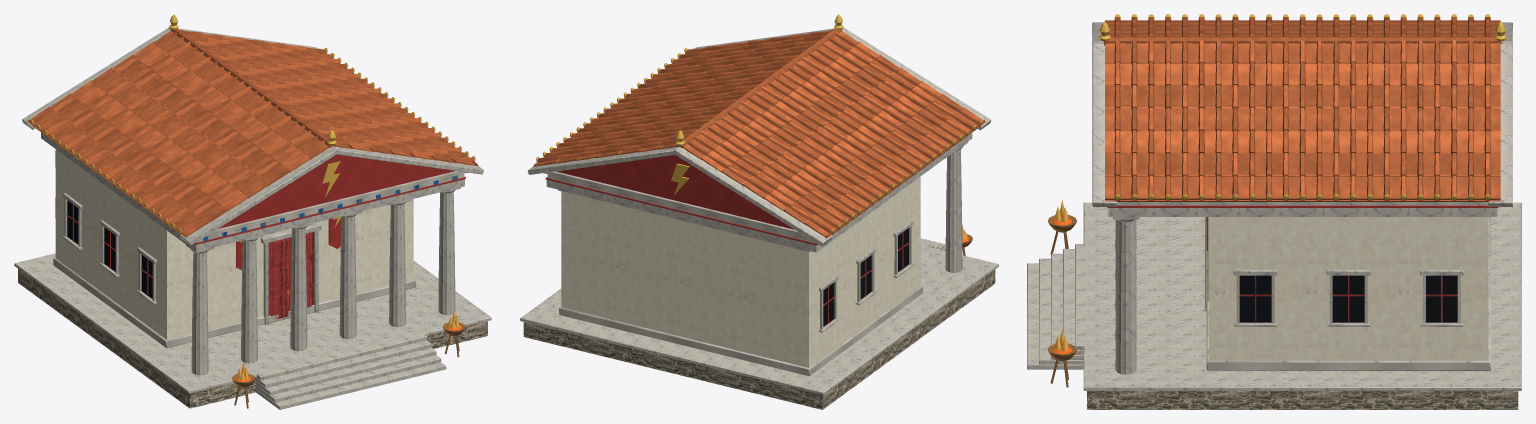
File: civic_council-hall.glb
3 views of the same model, side by side, from view 1: azimuth 30°, elevation 25°; view 2: azimuth 150°, elevation 25°; view 3: azimuth 270°, elevation 25° (orthographic). The views are drawn at different scales.
Visible parts, largest first — view 1: marble, step, cream, terracotta0, terracotta1, terracotta2, paint_red, stone, red_wood, gold, dark, cloth_red (+1 smaller); view 2: cream, terracotta0, terracotta1, marble, terracotta2, step, stone, paint_red, gold, dark; view 3: step, cream, terracotta0, terracotta1, terracotta2, marble, stone, dark, gold, paint_red, bronze, red_wood.
Boxes of the visible parts, box(x1,y1,x2,y2) form: marble: box(22, 27, 483, 375); step: box(14, 253, 491, 409); cream: box(55, 149, 413, 339); terracotta0: box(27, 30, 478, 237); terracotta1: box(28, 28, 477, 236); terracotta2: box(45, 33, 461, 223); paint_red: box(194, 154, 465, 244); stone: box(18, 269, 487, 408); red_wood: box(66, 204, 313, 323); gold: box(30, 14, 475, 293); dark: box(67, 200, 152, 298); cloth_red: box(236, 218, 341, 270); cream: box(561, 176, 920, 367); terracotta0: box(533, 30, 985, 237); terracotta1: box(534, 28, 984, 237); marble: box(527, 27, 991, 376); terracotta2: box(550, 33, 966, 224); step: box(520, 238, 998, 394); stone: box(523, 270, 995, 409); paint_red: box(545, 155, 817, 245); gold: box(536, 14, 982, 233); dark: box(823, 228, 908, 326); step: box(1027, 202, 1521, 390); cream: box(1209, 217, 1488, 360); terracotta0: box(1105, 17, 1500, 201); terracotta1: box(1104, 17, 1501, 200); terracotta2: box(1105, 17, 1500, 200); marble: box(1092, 22, 1512, 374); stone: box(1087, 391, 1518, 409); dark: box(1239, 275, 1457, 322); gold: box(1099, 14, 1506, 221); paint_red: box(1107, 205, 1498, 207); bronze: box(1048, 215, 1076, 387); red_wood: box(1239, 275, 1457, 322).
Bounding box in the file's own units: 12.4 × 9.29 × 14.
Materials: 17 (13 with a texture image).
